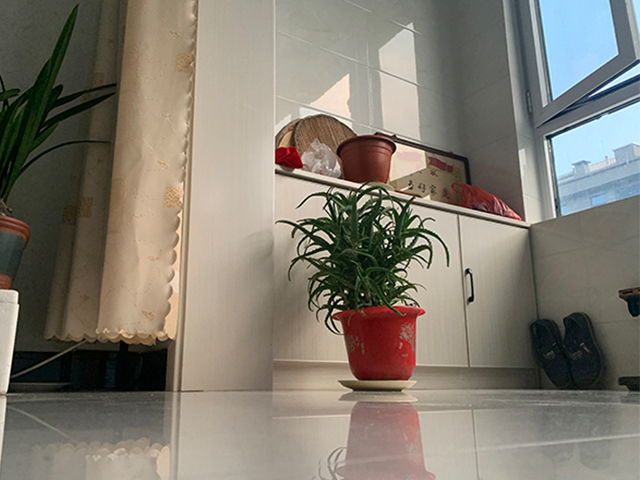cabinet: (274, 163, 541, 390)
curtain: (43, 1, 200, 345)
wire: (12, 341, 82, 381)
